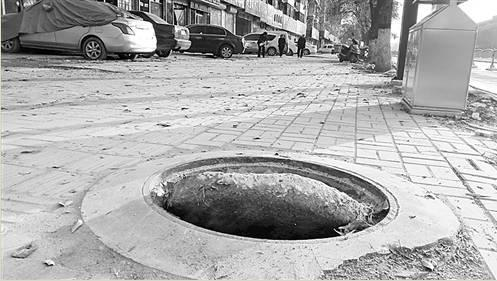lose: (94, 149, 458, 281)
